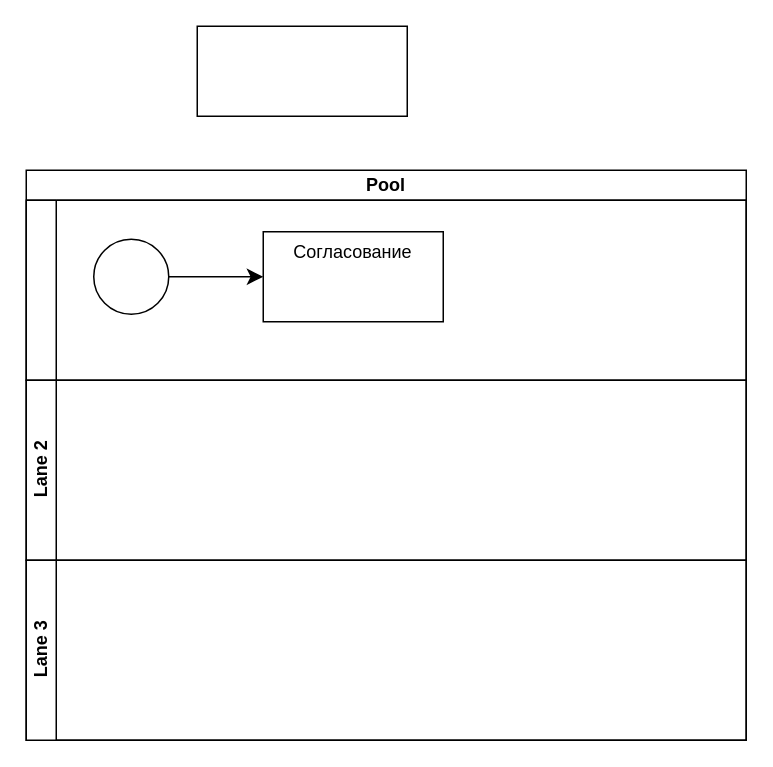
The diagram is 773 pixels wide and 767 high, and some of its shapes have lost their labels. The box of each missing label's shape, as (x1, y1, x2, y2) in pixels:
Решение (Документ): (196, 25, 407, 116)
Участник согласования: (25, 199, 746, 380)
